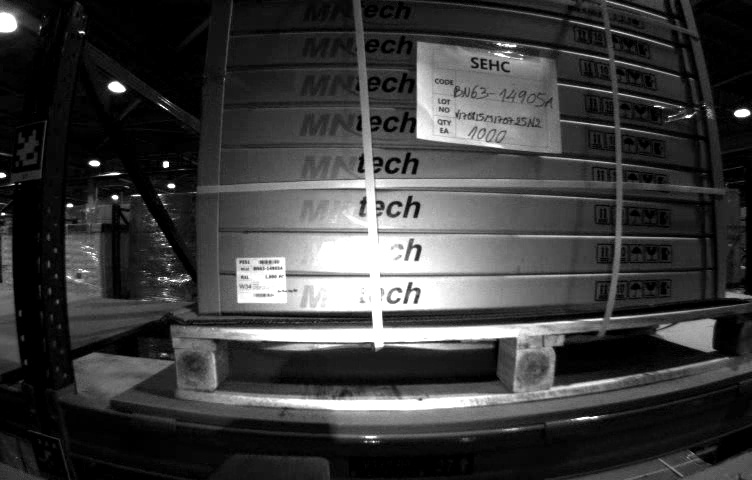True Barcode: (236, 257, 287, 302)
